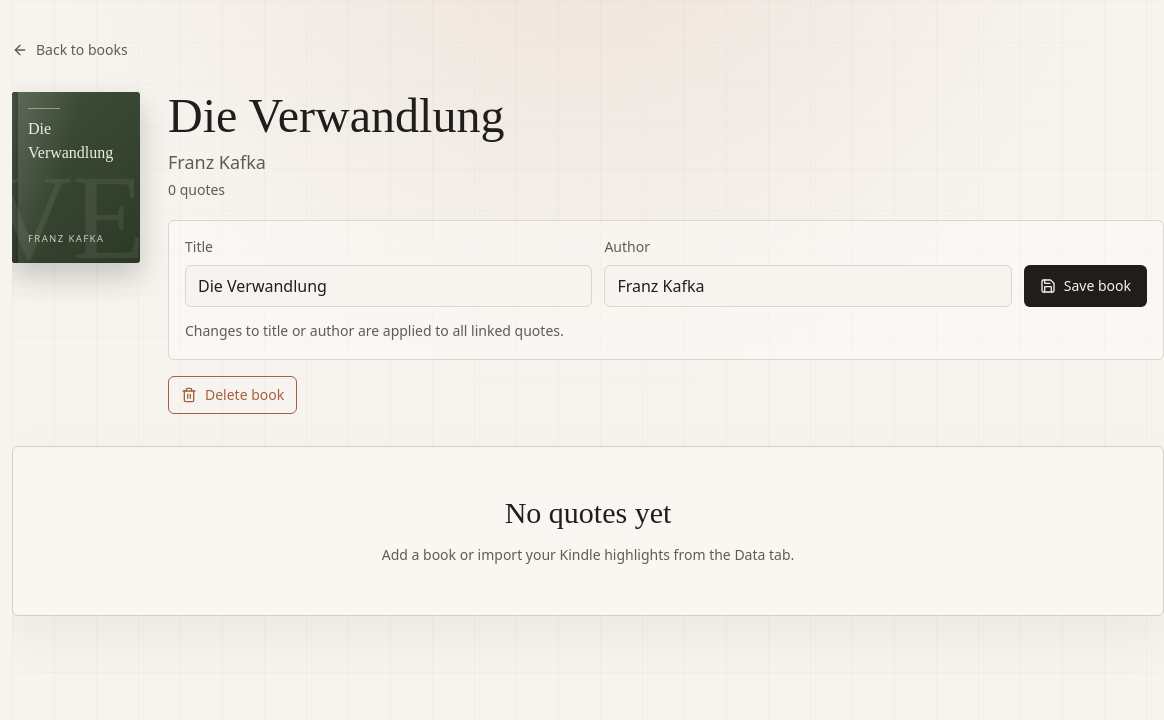
Test: BookDetailPage › speichert geänderte Angaben und zeigt die Erfolgsmeldung
The width and height of the screenshot is (1164, 720).
Replace the text in the field labelled "Title" with "Der Prozess" at x=389, y=286, box top-left (185, 265), bottom-right (592, 307)
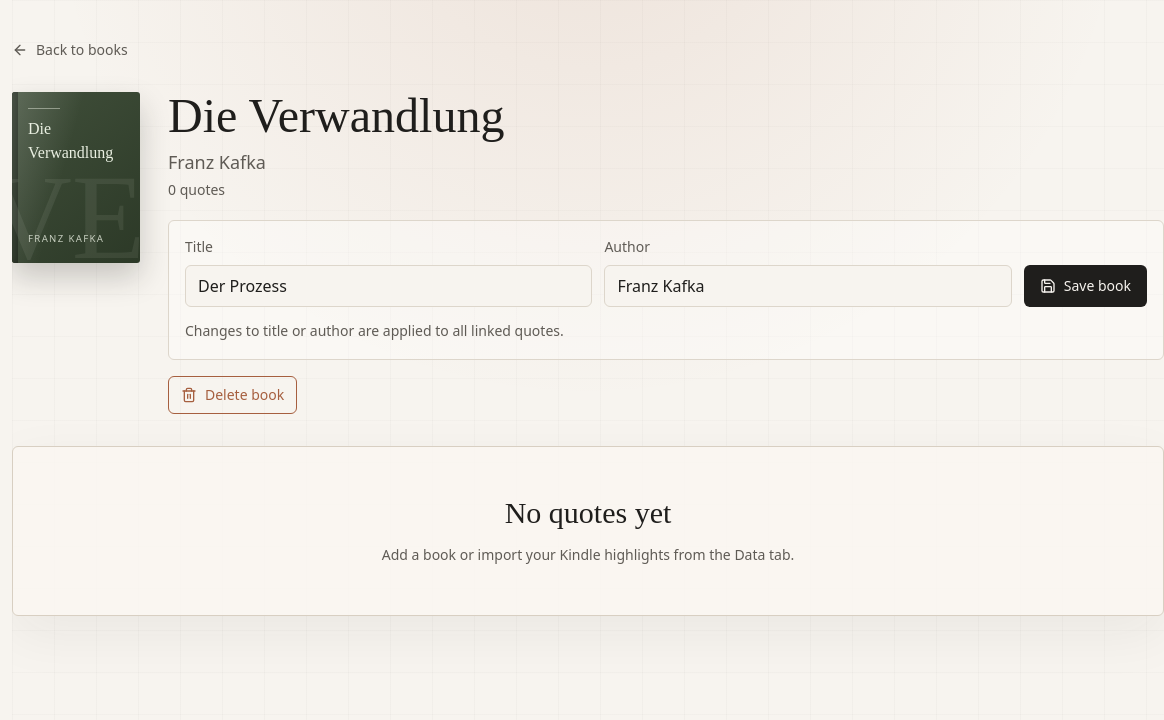
Click the button "Save book" at x=1085, y=286, box top-left (1024, 265), bottom-right (1147, 307)
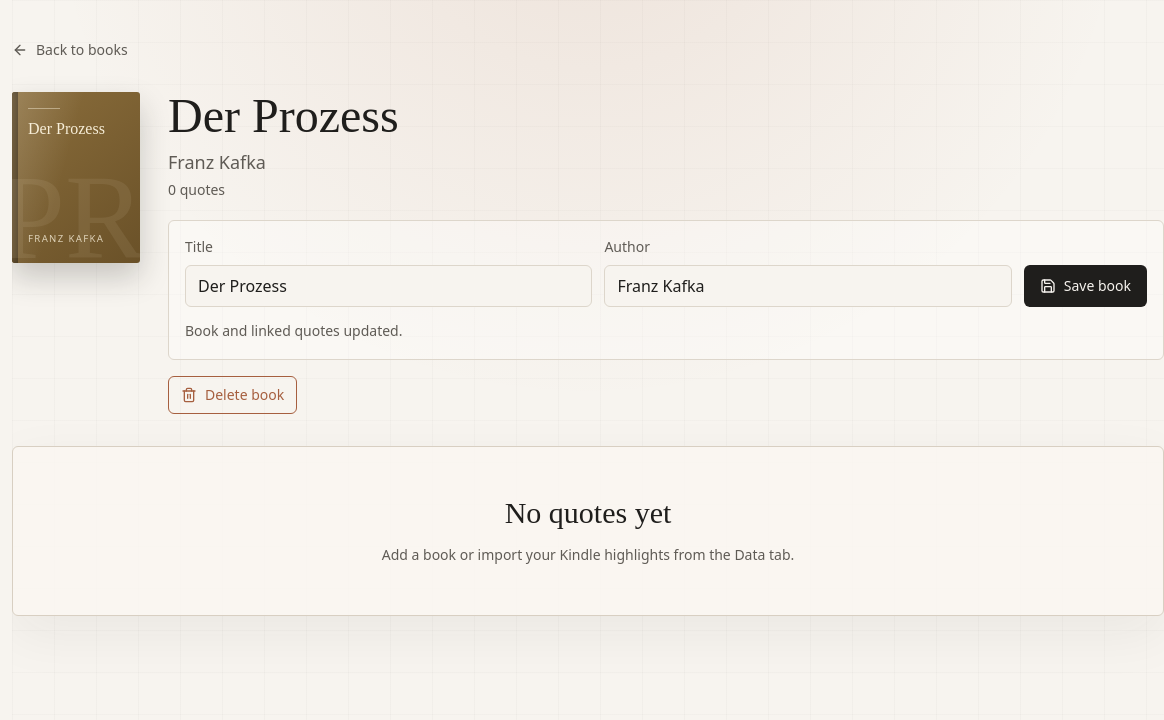
Check: the text "Book and linked quotes updated." is shown, box top-left (185, 321), bottom-right (402, 340)
Check: the text "Der Prozess" is shown, box top-left (28, 120), bottom-right (105, 137)
